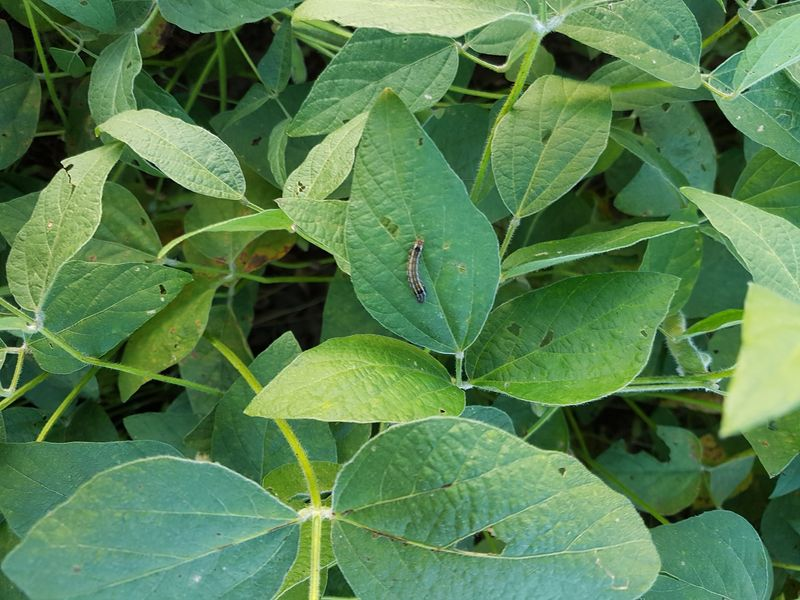Spodoptera_albula: (392, 231, 445, 308)
